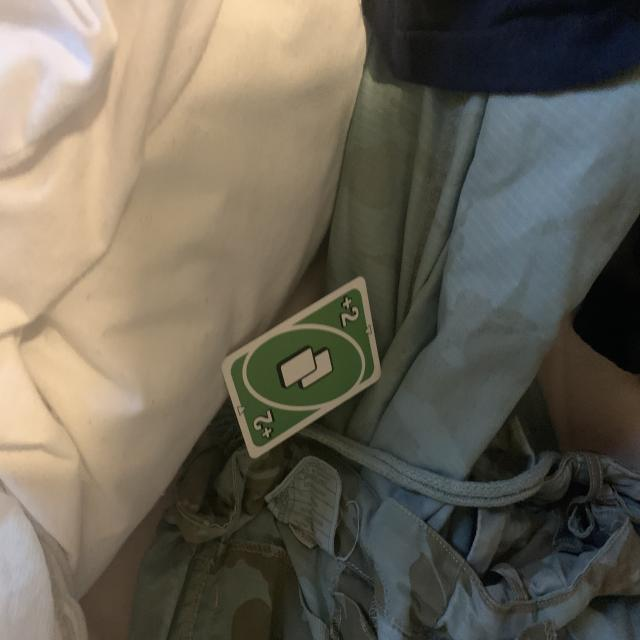lgreen-20: (332, 293, 362, 334)
